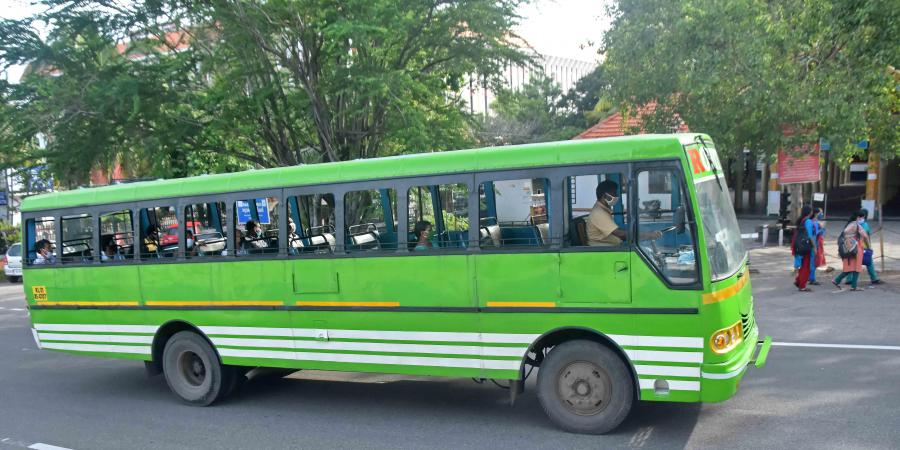bus: (21, 134, 765, 429)
